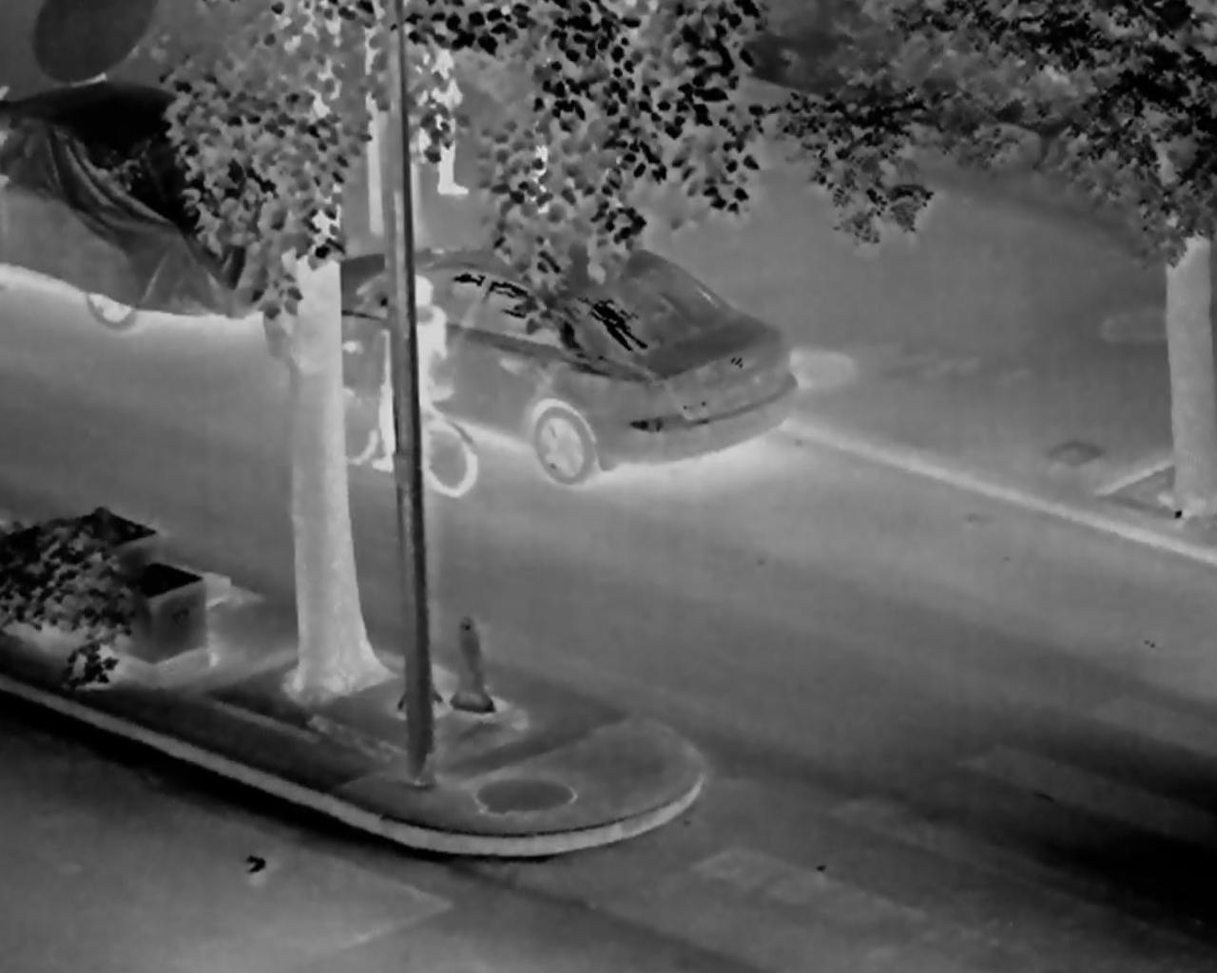person: (372, 273, 453, 473), (390, 6, 469, 200)
